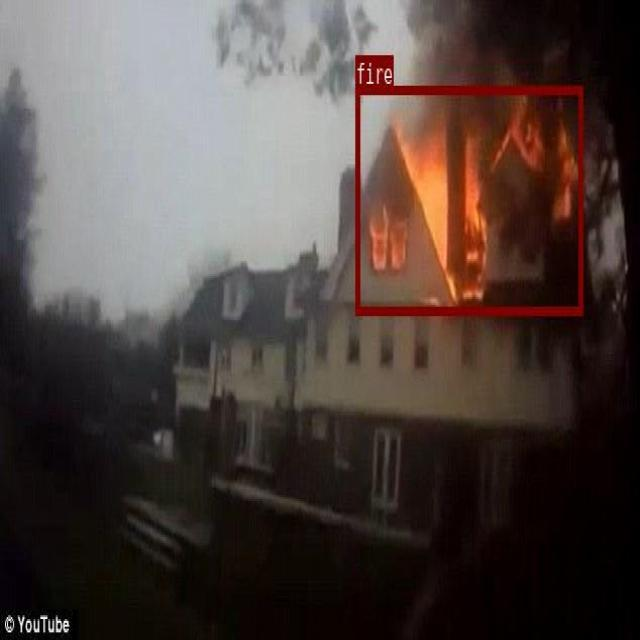fire: (355, 84, 582, 313)
